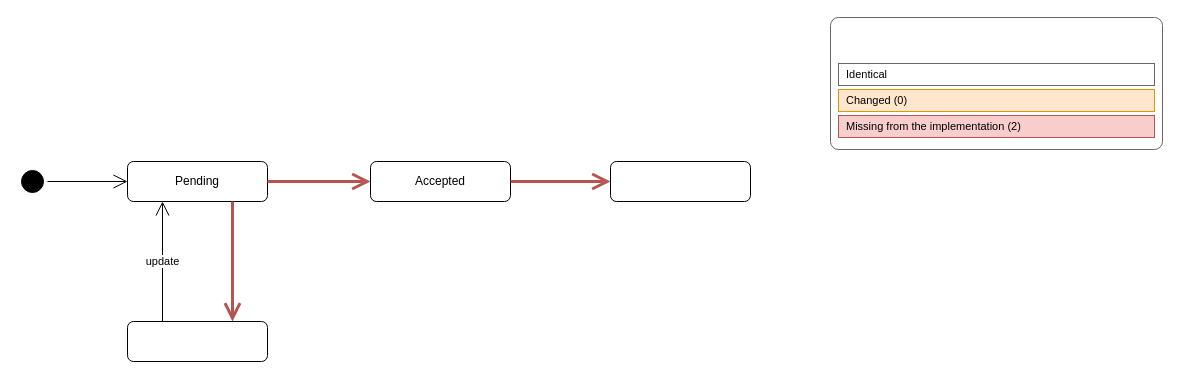
Some shapes in this 1180 by 379 pixel diagram are drawn without their labels. Each missing label, with the box of its shape:
Completed: (610, 160, 750, 202)
DESIGN drawn by a person · diagrams/input/state-request.drawio: (830, 16, 1162, 150)
Rejected: (126, 320, 268, 362)
